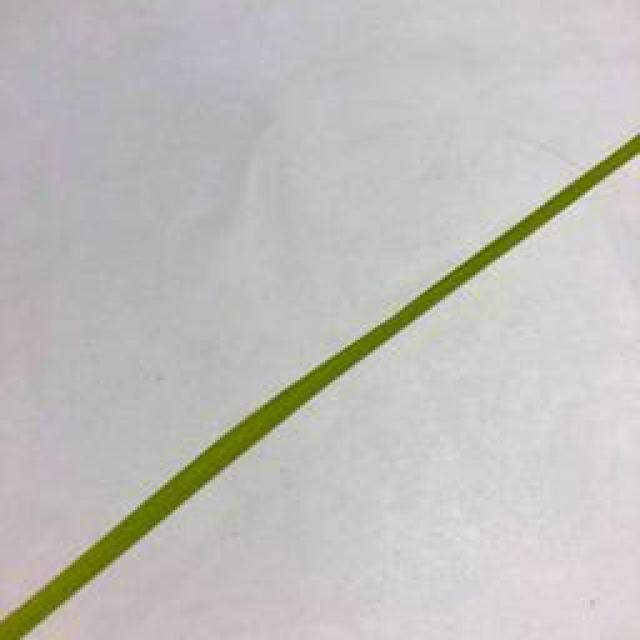Healthy-Plant: (196, 135, 640, 475)
